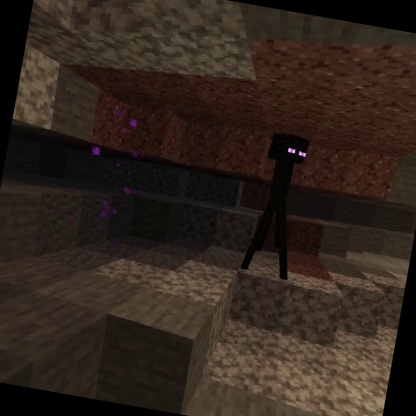enderman: (238, 128, 316, 284)
